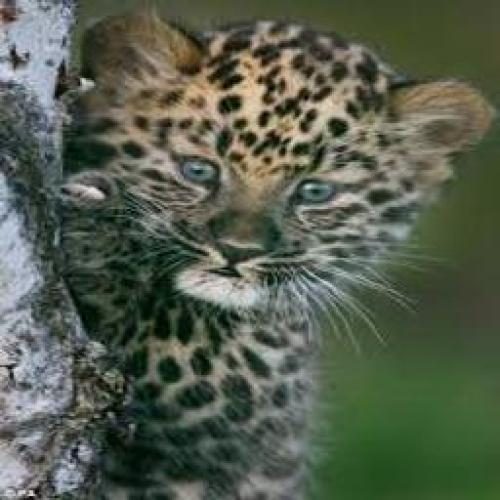amur_leopard-endangered: (78, 8, 500, 500)
